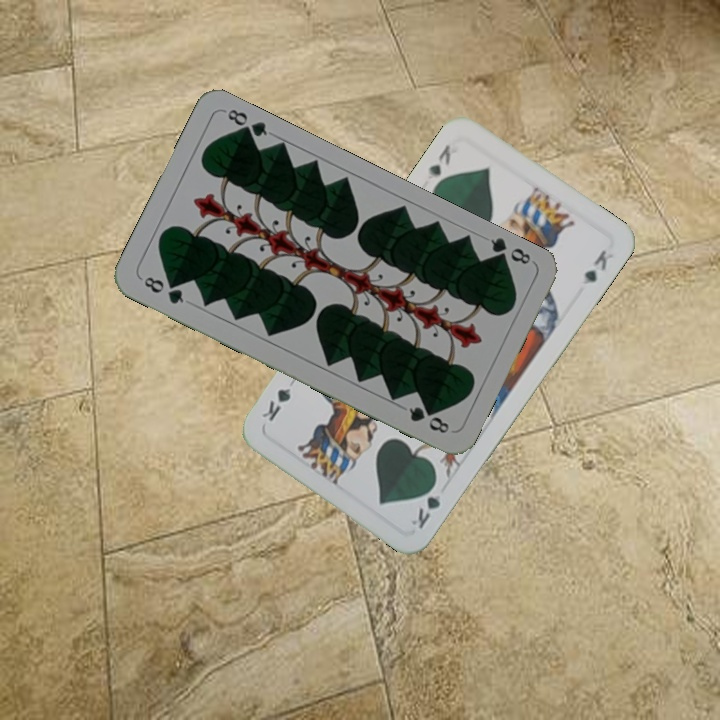G8: (486, 234, 534, 269), (140, 272, 187, 307)
GK: (406, 476, 444, 532), (424, 140, 454, 179)
